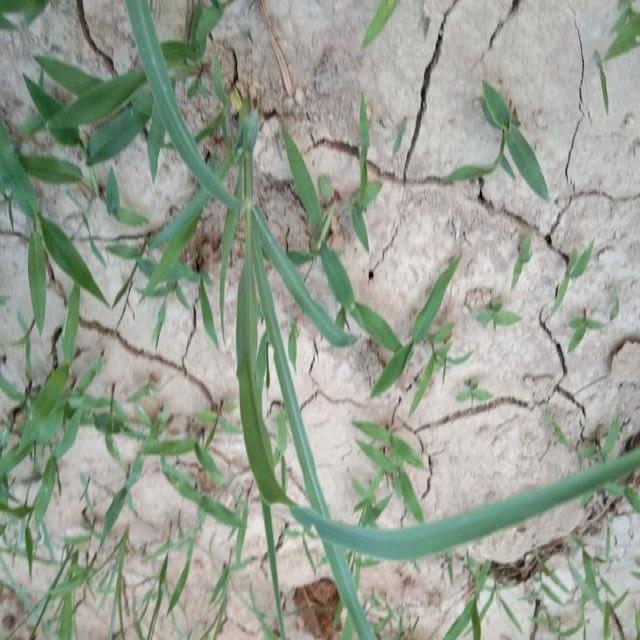weed: (122, 20, 332, 640), (2, 365, 133, 640), (0, 84, 102, 328), (337, 482, 630, 560), (338, 231, 459, 413), (482, 95, 550, 196)
